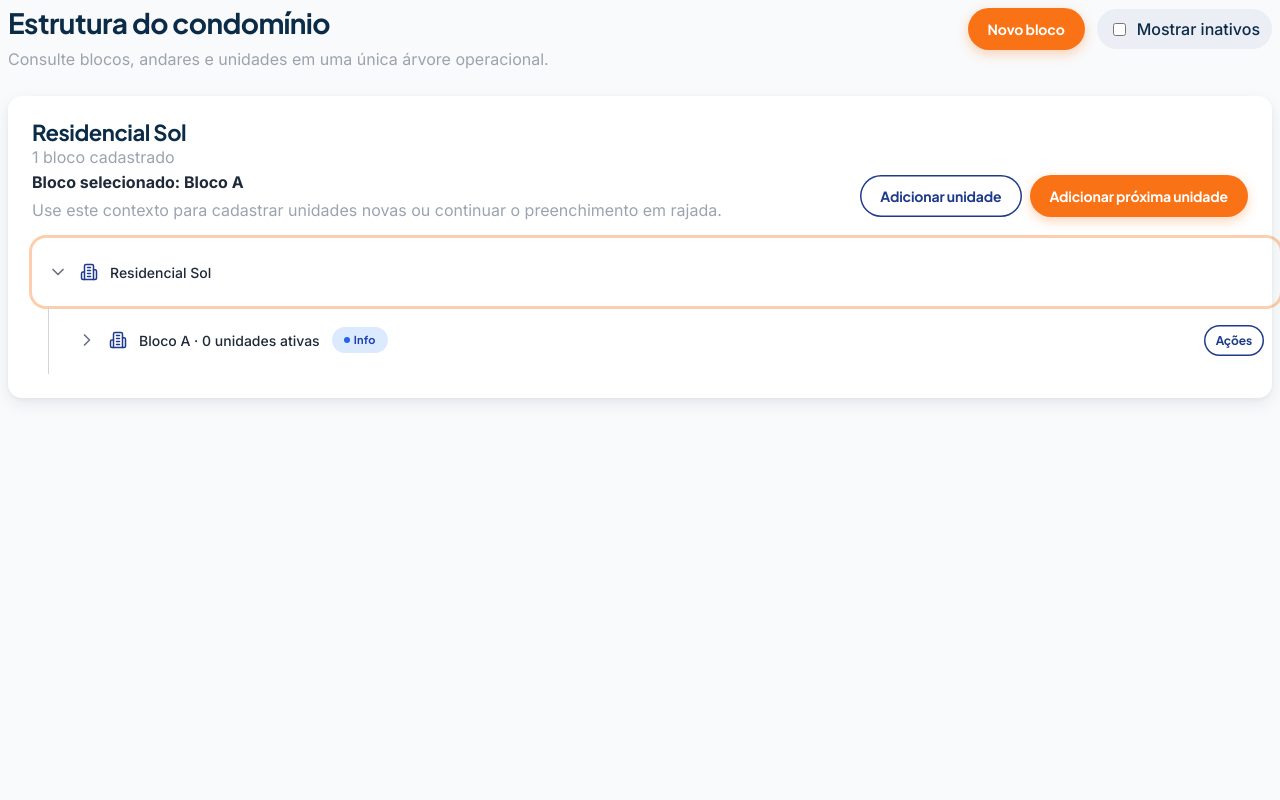
Test: EstruturaPage integration › shows a toast and keeps the unidade unchanged when reactivation conflicts
Step 1. Click the checkbox labelled "Mostrar inativos" → [1119, 29], box [1113, 22, 1126, 36]
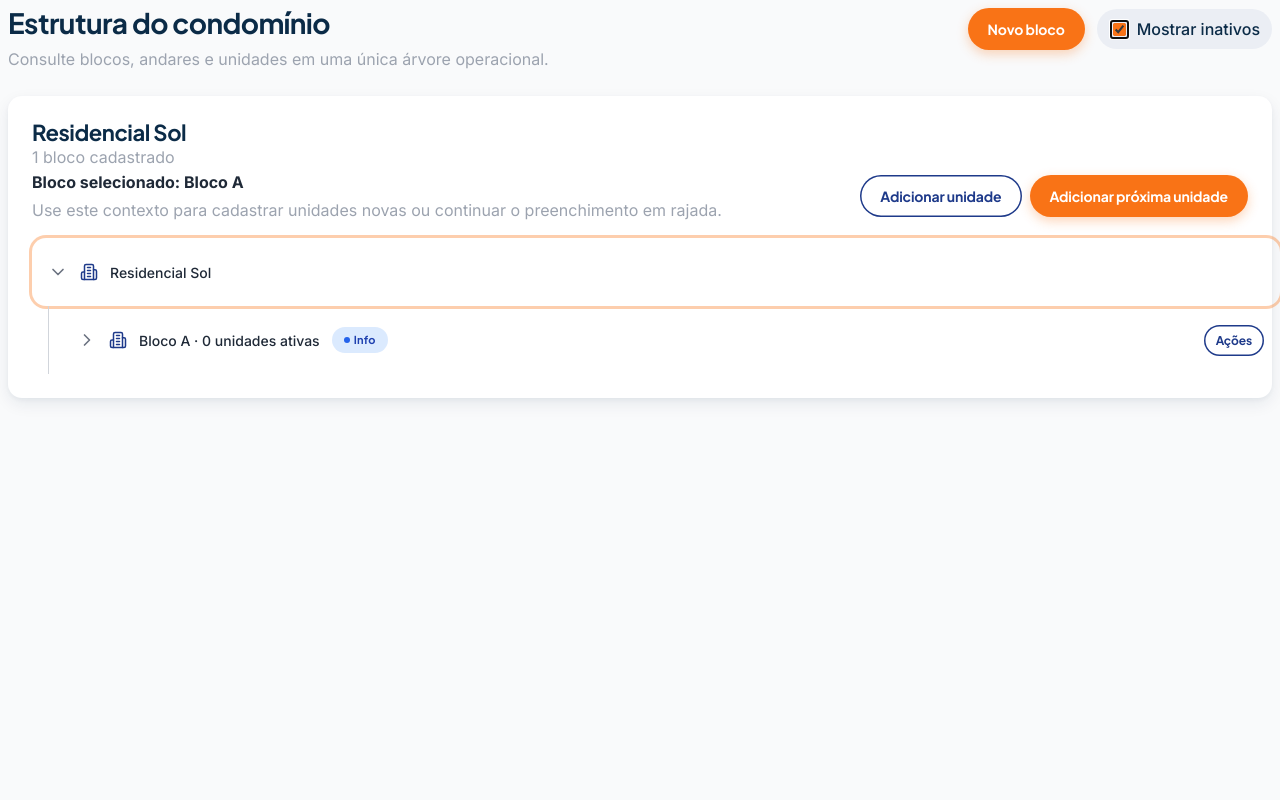
Step 2. Click the list item "Bloco A · 0 unidades ativas Info Ações" → [229, 340], box [77, 325, 1264, 356]
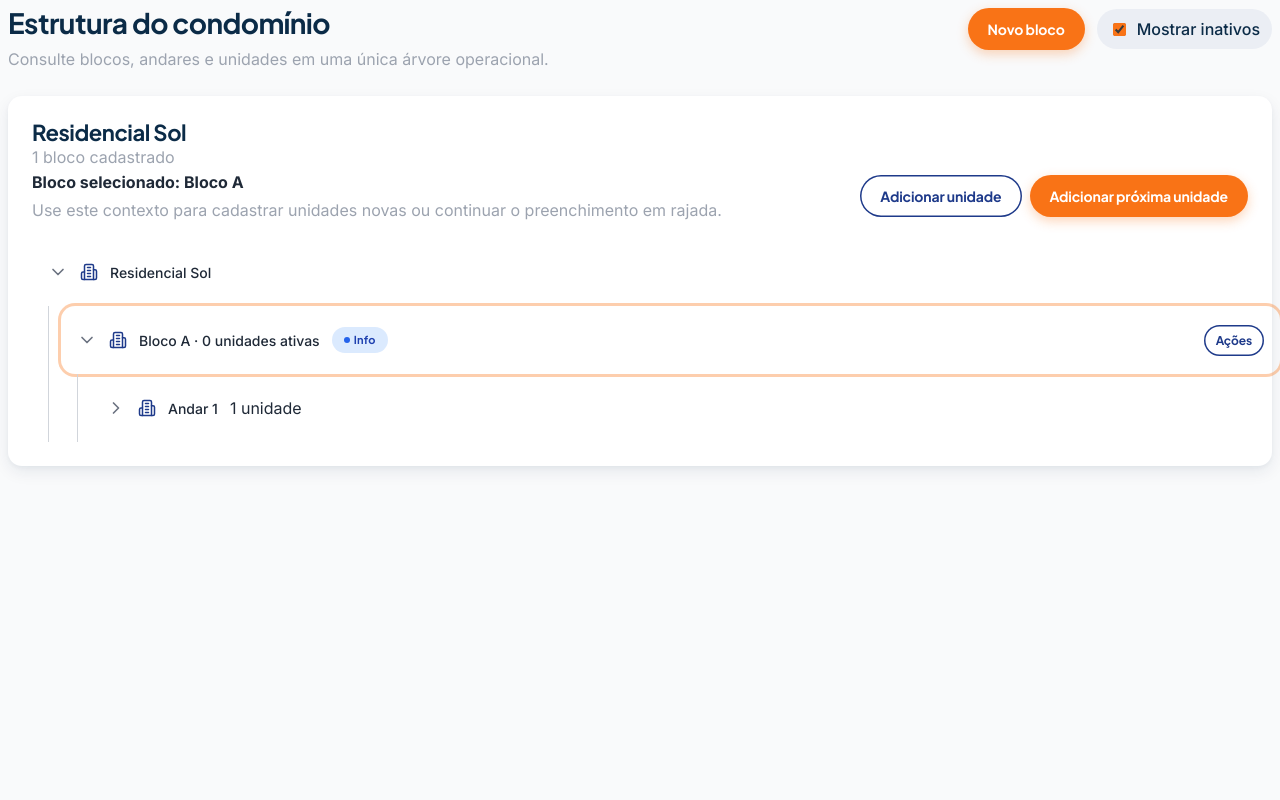
Step 3. Click the list item "Andar 1 1 unidade" → [204, 408], box [106, 398, 302, 418]
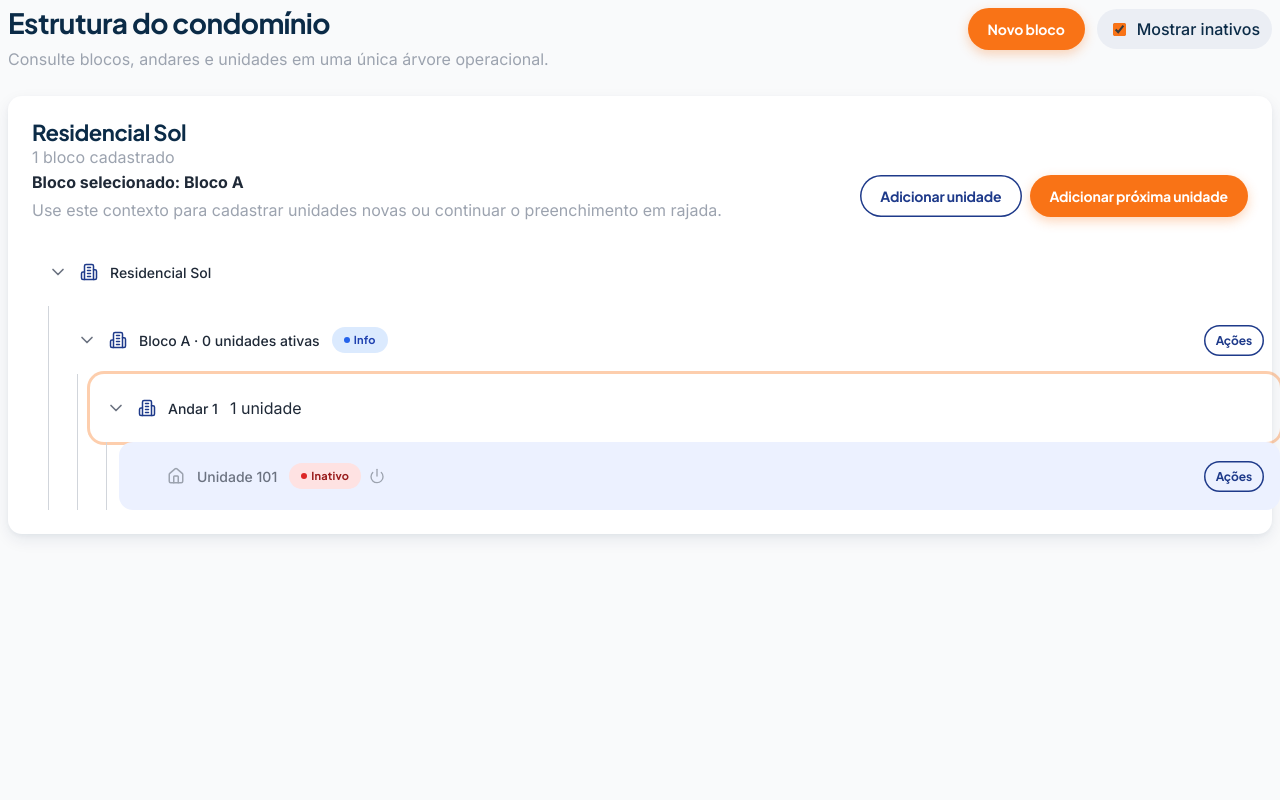
Check: the list item "Unidade 101 Inativo Ações" is shown, box [119, 442, 1279, 510]
Step 4. Click the button with aria-label "Ações da unidade 101" → [1234, 476], box [1204, 461, 1264, 492]
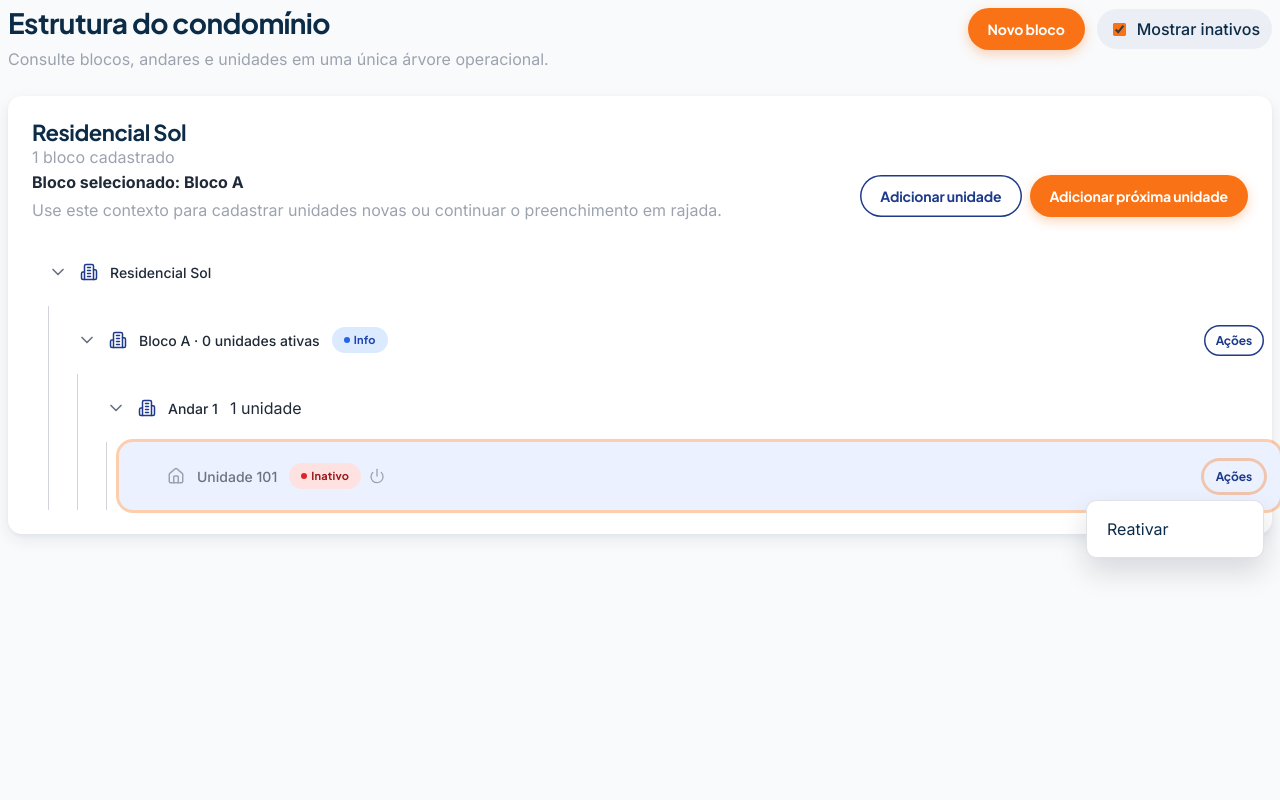
Step 5. Click the menu item "Reativar" → [1175, 529], box [1095, 509, 1255, 549]
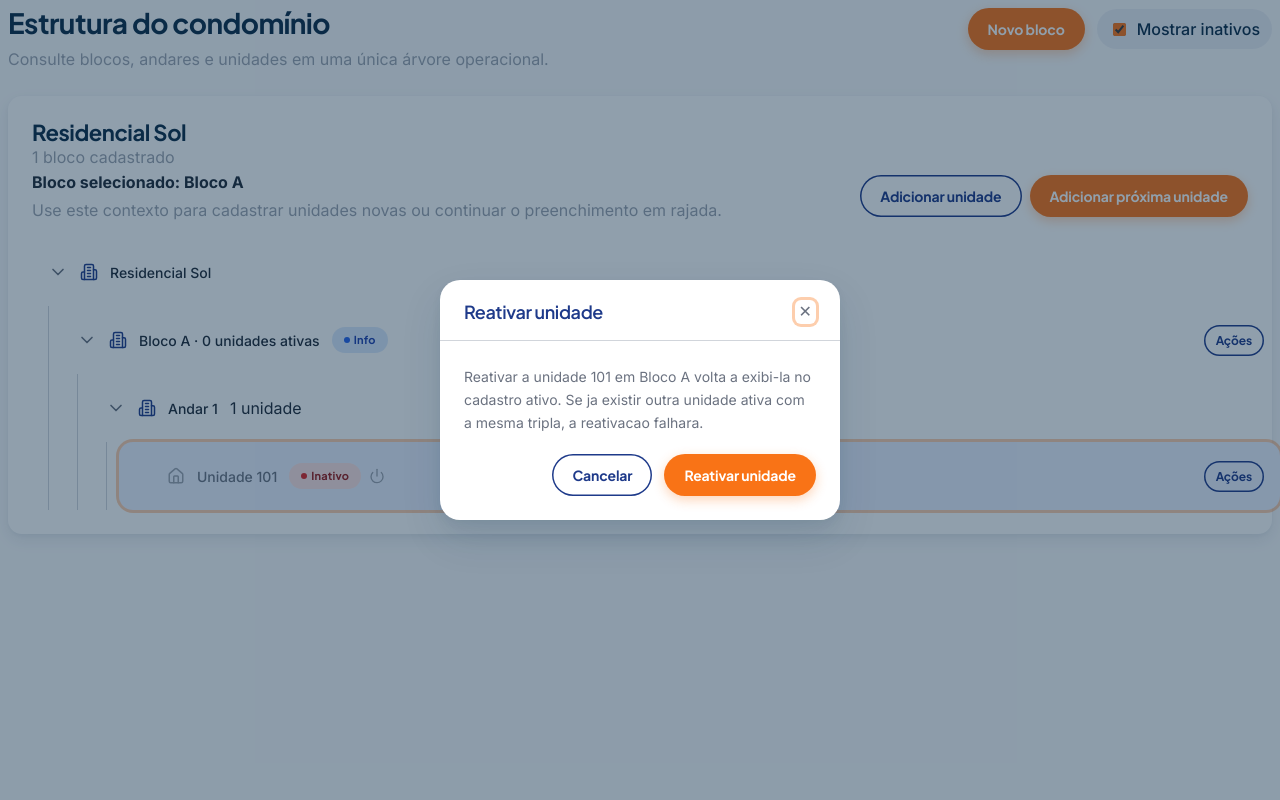
Step 6. Click the button "Reativar unidade" → [740, 475], box [664, 454, 816, 496]
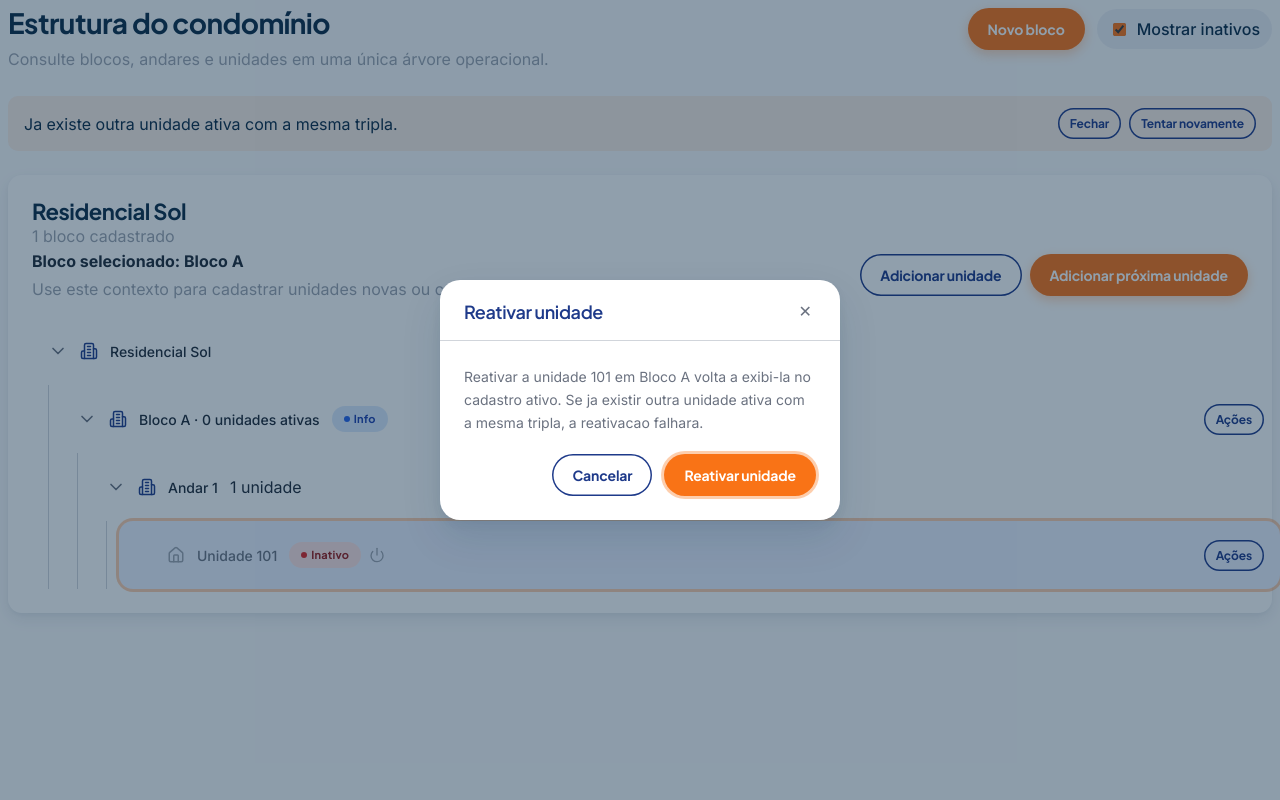
Check: the list item "Unidade 101 Inativo Ações" is shown, box [119, 521, 1279, 589]
Check: the icon with test id "tree-node-state-icon-unidade-un-1" is shown, box [369, 547, 385, 563]
Check: the message shows "Ja existe outra unidade ativa com a mesma tripla", box [24, 114, 398, 134]
